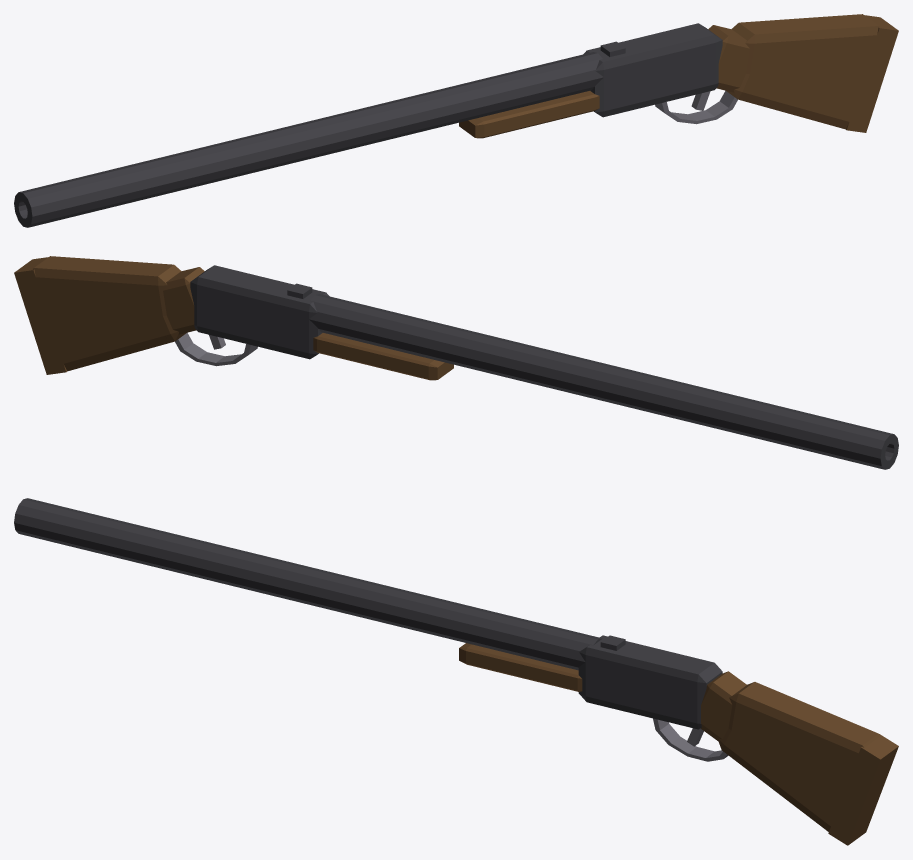
File: Gun(OOR).fbx
The picture shows the model from 3 angles, top to bottom: view 1: azimuth 30°, elevation 25°; view 2: azimuth 150°, elevation 25°; view 3: azimuth 330°, elevation 25°; orthographic projection.
Parts seen in each view (by area): view 1: tube, beveled_cuboid_2, beveled_cuboid, beveled_cuboid_3, beveled_cuboid_4, group3, beveled_cuboid_1, tube_1; view 2: tube, beveled_cuboid, beveled_cuboid_2, beveled_cuboid_3, beveled_cuboid_4, group3, beveled_cuboid_1, tube_1; view 3: tube, beveled_cuboid, beveled_cuboid_2, beveled_cuboid_3, group3, beveled_cuboid_4, beveled_cuboid_1, tube_1.
Part boxes in pixels (x1,y1,x2,y2): tube: (14, 52, 603, 227); beveled_cuboid_2: (583, 23, 722, 117); beveled_cuboid: (731, 14, 879, 96); beveled_cuboid_3: (726, 43, 875, 129); beveled_cuboid_4: (459, 91, 599, 138); group3: (845, 15, 898, 132); beveled_cuboid_1: (708, 25, 749, 92); tube_1: (655, 90, 737, 124); tube: (309, 294, 898, 469); beveled_cuboid: (33, 256, 181, 338); beveled_cuboid_2: (190, 265, 329, 359); beveled_cuboid_3: (38, 288, 186, 371); beveled_cuboid_4: (313, 333, 453, 380); group3: (14, 257, 67, 374); beveled_cuboid_1: (163, 267, 204, 334); tube_1: (175, 332, 257, 366); tube: (14, 498, 602, 670); beveled_cuboid: (728, 682, 880, 800); beveled_cuboid_2: (578, 635, 722, 729); beveled_cuboid_3: (717, 706, 856, 831); group3: (828, 734, 898, 845); beveled_cuboid_4: (459, 643, 582, 691); beveled_cuboid_1: (701, 671, 746, 741); tube_1: (653, 718, 728, 761).
Bounding box in the file's own units: 678 × 104 × 25.
Materials: 3 (3 with a texture image).
